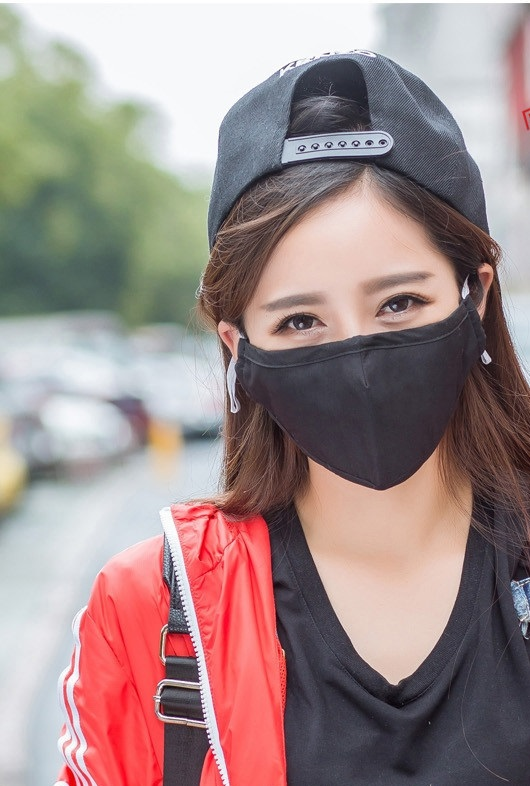face_mask: (252, 178, 457, 486)
